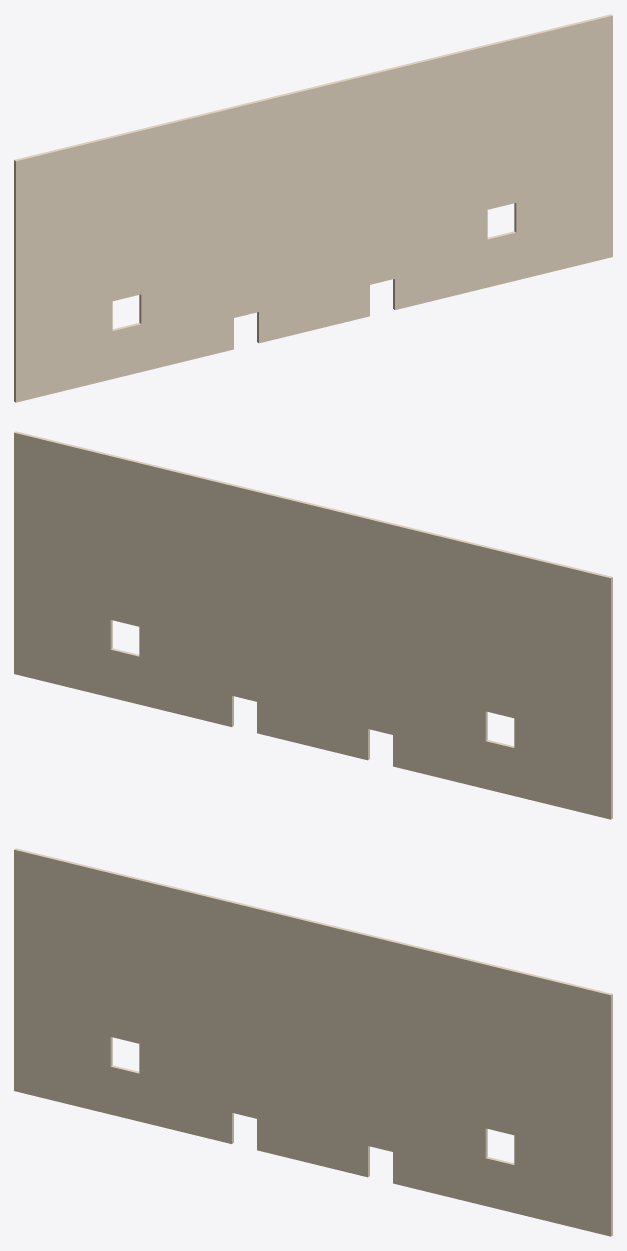
File: Pared entrada.fbx
3 views of the same model, one above another, from view 1: azimuth 30°, elevation 25°; view 2: azimuth 150°, elevation 25°; view 3: azimuth 330°, elevation 25° (orthographic).
Parts seen in each view (by area): view 1: Pared_Entrada/Pabellón; view 2: Pared_Entrada/Pabellón; view 3: Pared_Entrada/Pabellón.
Part boxes in pixels (left/top/right/bottom): Pared_Entrada/Pabellón: left=14, top=14, right=612, bottom=402; Pared_Entrada/Pabellón: left=14, top=431, right=612, bottom=819; Pared_Entrada/Pabellón: left=14, top=848, right=612, bottom=1236.
Size of the model in its own units: 5261 by 2032 by 29.34.
